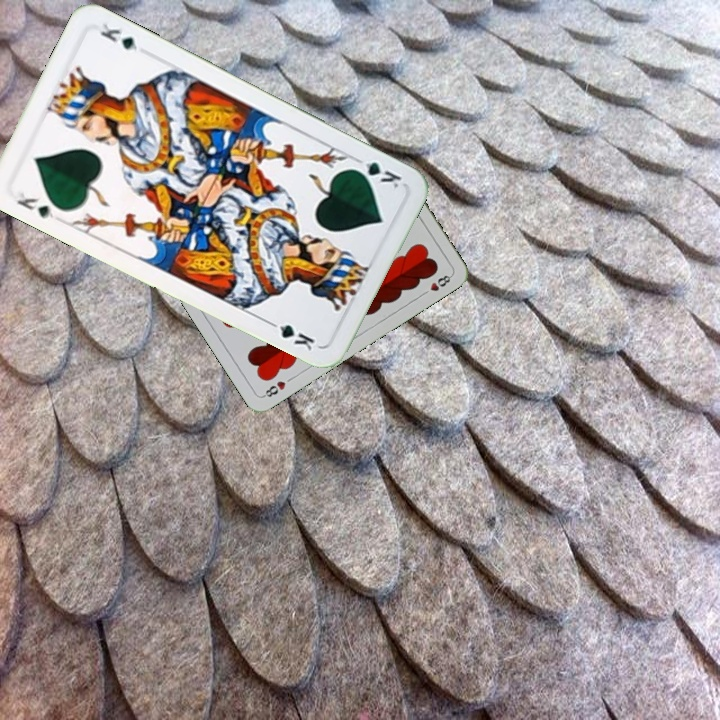GK: (347, 153, 404, 191), (13, 188, 58, 221)
H8: (259, 377, 288, 400)
